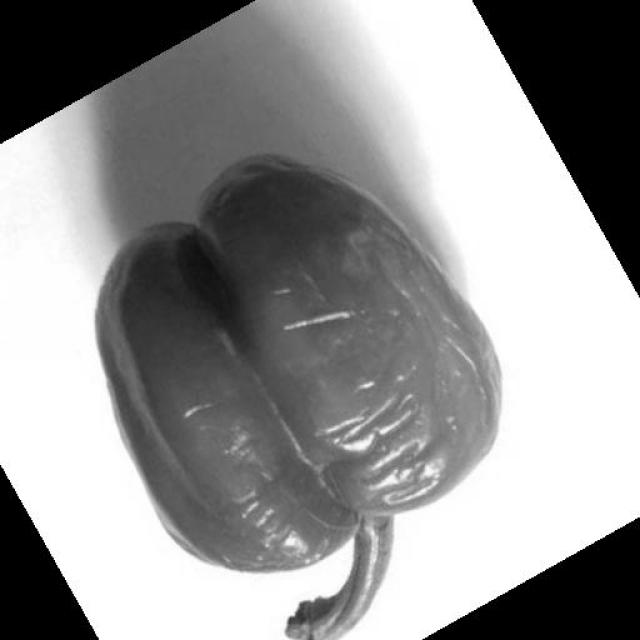Stale_Capsicum: (85, 148, 535, 550)
